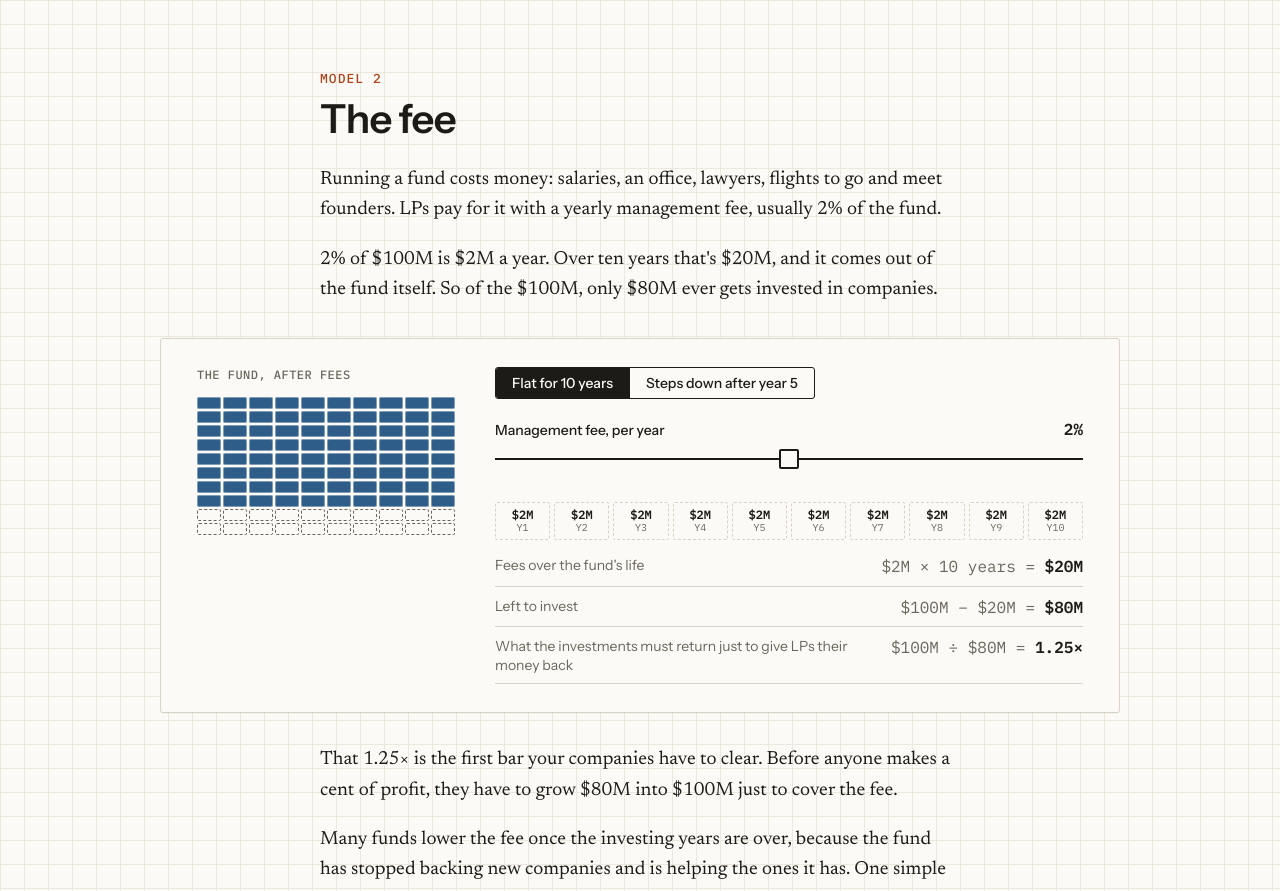
Part two, model 2: the fee › can step the fee down to 1% a year after year 5
Click the button "Steps down after year 5" at (721, 383), box [629,368,814,398]
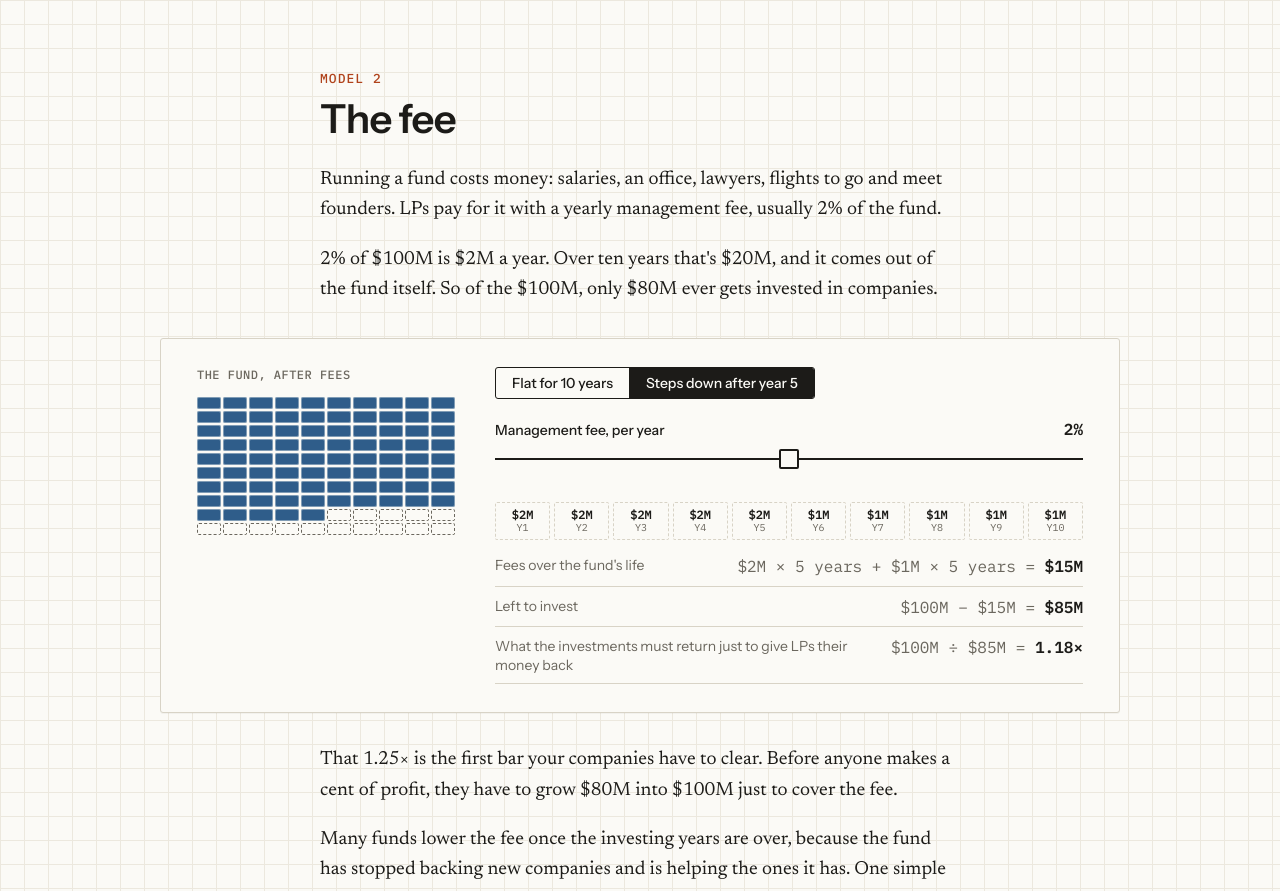
expect the element with test id "f2-fees" reads "$2M × 5 years + $1M × 5 years = $15M": met, box [737,556,1083,578]
expect the element with test id "f2-invested" reads "$100M − $15M = $85M": met, box [900,597,1083,618]
expect the element with test id "f2-needed" reads "$100M ÷ $85M = 1.18×": met, box [891,637,1083,657]
